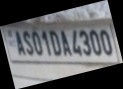character: (99, 29, 112, 56), (88, 30, 102, 55), (48, 30, 61, 56), (79, 29, 91, 56), (40, 30, 52, 56), (60, 30, 72, 56), (22, 31, 34, 56), (71, 29, 82, 56), (14, 31, 25, 55), (31, 31, 42, 55)
